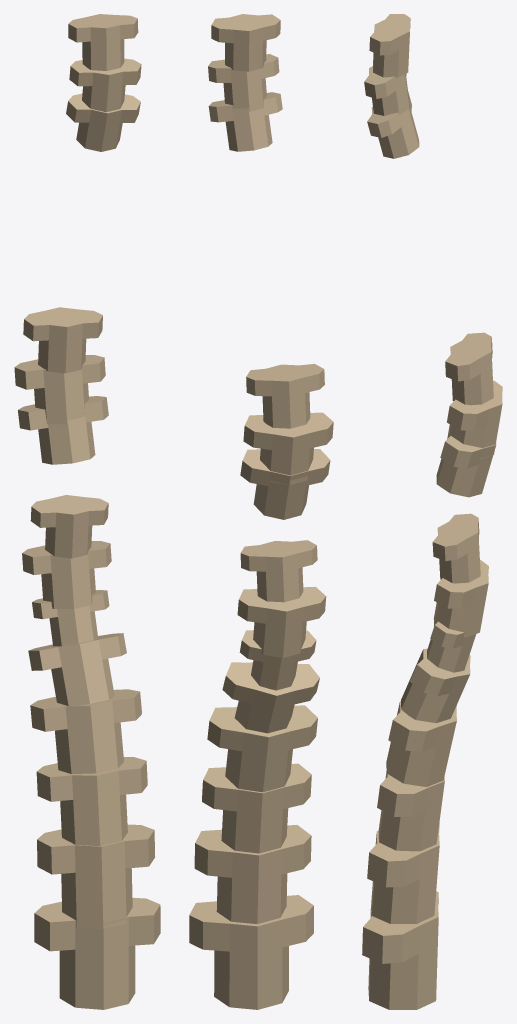
The model's file is Dos.FBX.
3 views of the same model, side by side, from view 1: azimuth 30°, elevation 25°; view 2: azimuth 210°, elevation 25°; view 3: azimuth 270°, elevation 25° (orthographic).
Visible parts, largest first — view 1: Dos 001; view 2: Dos 001; view 3: Dos 001.
Boxes of the visible parts, box(x1,y1,x2,y2) form: Dos 001: box(14, 14, 160, 1009); Dos 001: box(189, 14, 333, 1009); Dos 001: box(362, 14, 502, 1009).
Size of the model in its own units: 4.97 by 44.61 by 5.87.
